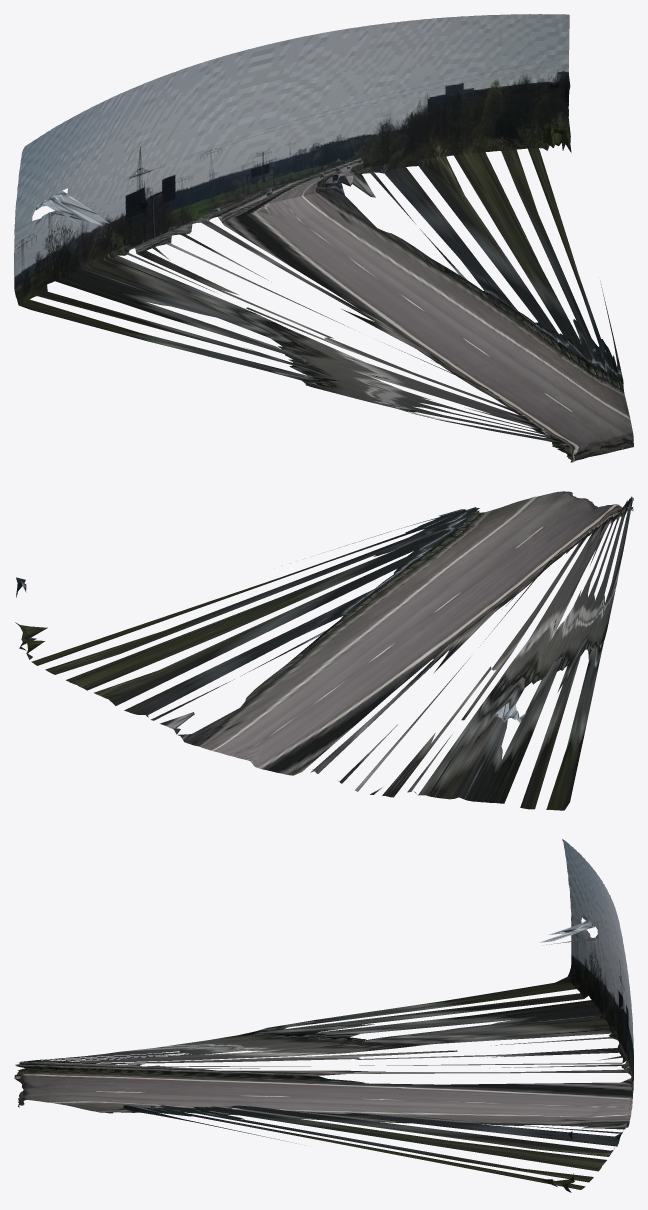
3 views of the same model, one above another, from view 1: azimuth 30°, elevation 25°; view 2: azimuth 150°, elevation 25°; view 3: azimuth 270°, elevation 25° (orthographic). The views are drawn at different scales.
Visible parts, largest first — view 1: defaultobject; view 2: defaultobject; view 3: defaultobject.
Boxes of the visible parts, x1,y1,x2,y2 form: defaultobject: (14,14,633,462); defaultobject: (15,491,633,810); defaultobject: (14,839,633,1192).
Size of the model in its own units: 41.09 by 12.66 by 44.57.
Materials: 1 (1 with a texture image).
